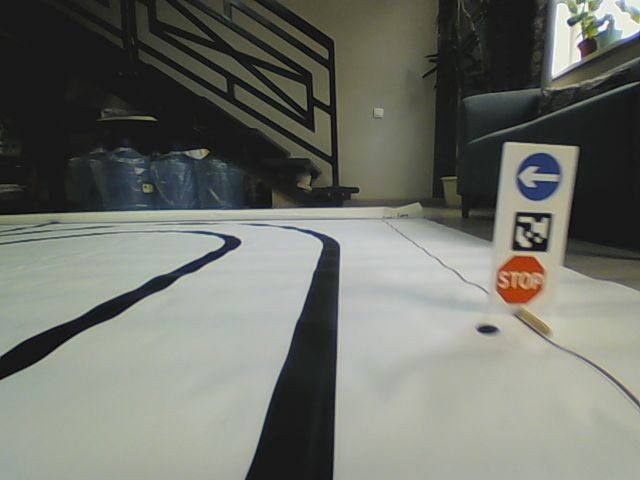Stop: (495, 253, 545, 305)
